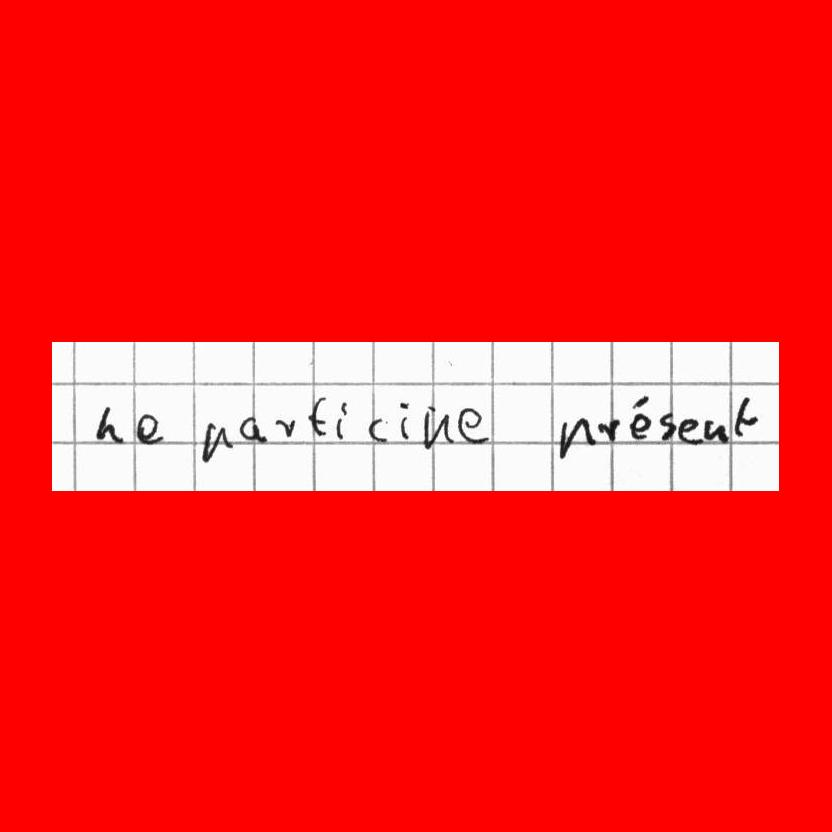Char: (557, 415, 596, 461), (421, 402, 453, 452), (200, 417, 232, 464), (457, 404, 487, 446), (731, 394, 758, 440), (94, 403, 123, 445), (307, 392, 329, 441), (627, 392, 649, 441), (134, 410, 163, 445), (238, 413, 265, 444), (368, 413, 390, 444), (595, 417, 620, 444), (658, 410, 678, 443), (679, 415, 701, 445), (397, 400, 413, 441), (335, 401, 350, 441), (273, 415, 297, 440), (704, 419, 727, 445)
